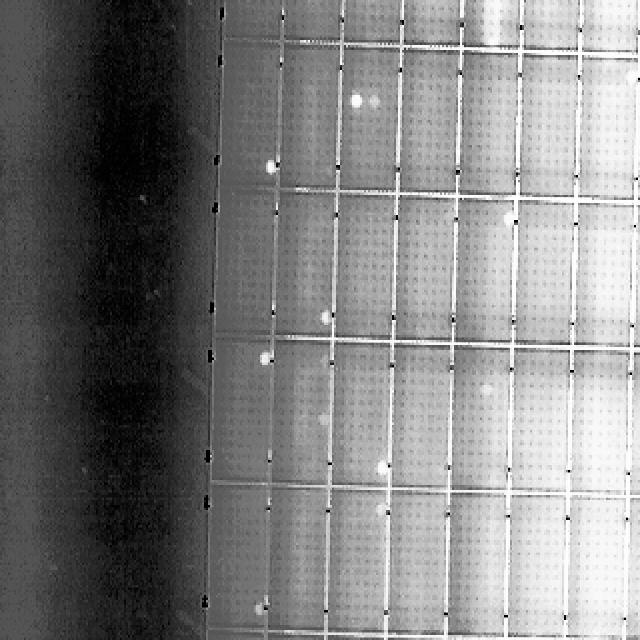Hotspots: (343, 85, 371, 110), (260, 153, 281, 181), (369, 458, 390, 484), (318, 303, 337, 328), (251, 604, 271, 626), (256, 346, 274, 368)
PV-modules: (272, 189, 336, 337), (278, 42, 340, 192), (445, 351, 508, 498), (573, 52, 636, 198), (213, 337, 276, 483), (512, 353, 574, 501), (218, 187, 279, 336), (515, 198, 577, 344), (343, 44, 405, 190), (339, 192, 401, 338), (390, 349, 451, 497), (568, 355, 629, 502), (270, 346, 331, 493), (222, 41, 282, 190), (443, 489, 505, 633), (386, 488, 448, 632), (399, 46, 460, 192), (572, 199, 632, 347), (450, 195, 510, 342), (336, 348, 396, 495), (456, 48, 516, 195), (267, 483, 327, 629), (396, 194, 456, 340), (520, 50, 580, 196), (564, 500, 626, 640), (509, 498, 570, 640), (332, 486, 392, 630), (206, 487, 265, 632), (576, 0, 636, 52), (524, 0, 582, 50), (458, 0, 518, 48), (402, 0, 464, 45), (348, 0, 408, 42), (280, 0, 342, 40), (224, 0, 288, 38), (628, 502, 640, 640), (632, 355, 640, 503), (636, 200, 640, 348), (638, 55, 640, 200)
